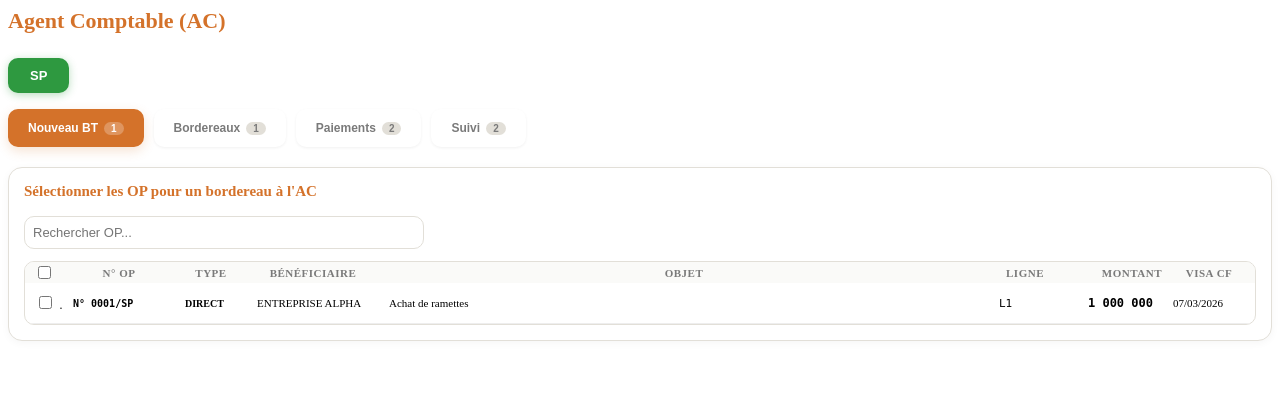
Test: Circuit AC — la file d'attente › un OP peut être renvoyé au CF plutôt que mis sur un bordereau
Click the checkbox next to "N° 0001/SP": click(46, 302) top-left (39, 296), bottom-right (52, 309)
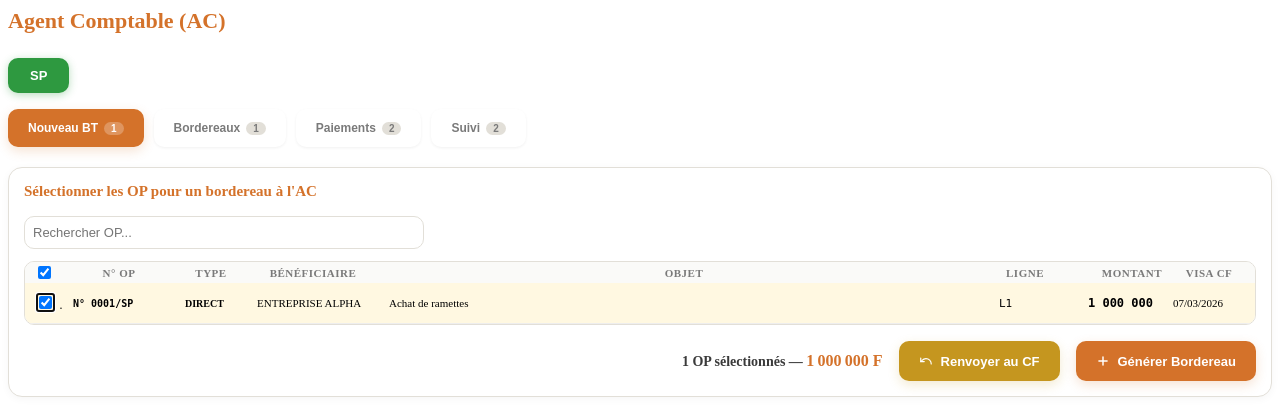
Expected: the button "Renvoyer au CF" is shown, top-left (898, 341), bottom-right (1060, 381)
